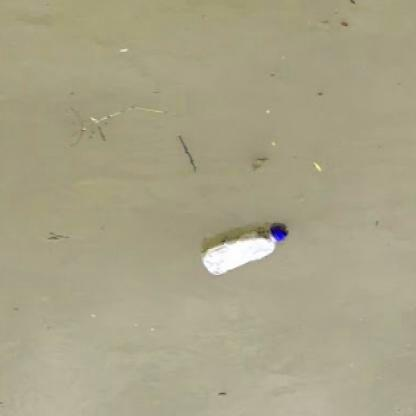Plastic: (199, 216, 292, 278)
